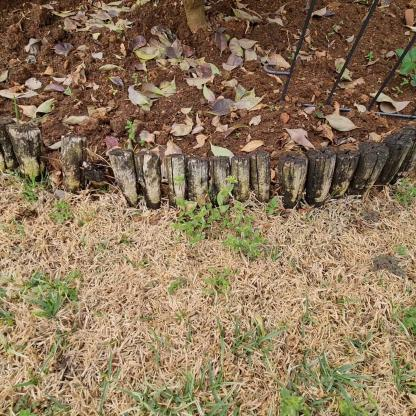Weeds: (173, 173, 268, 259), (34, 270, 81, 303), (276, 386, 310, 415), (202, 268, 233, 295), (392, 177, 415, 211), (398, 47, 415, 83), (47, 201, 76, 221), (401, 303, 415, 340), (167, 276, 185, 296), (125, 117, 139, 141), (265, 198, 279, 217)
